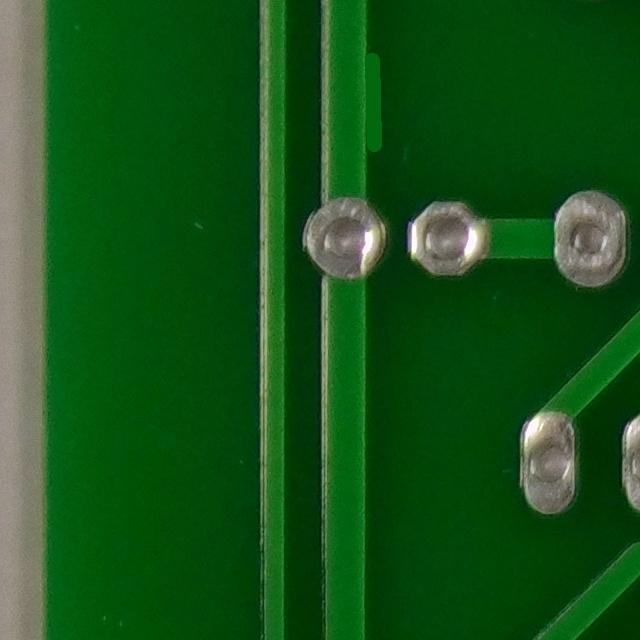spur: (307, 41, 409, 161)
